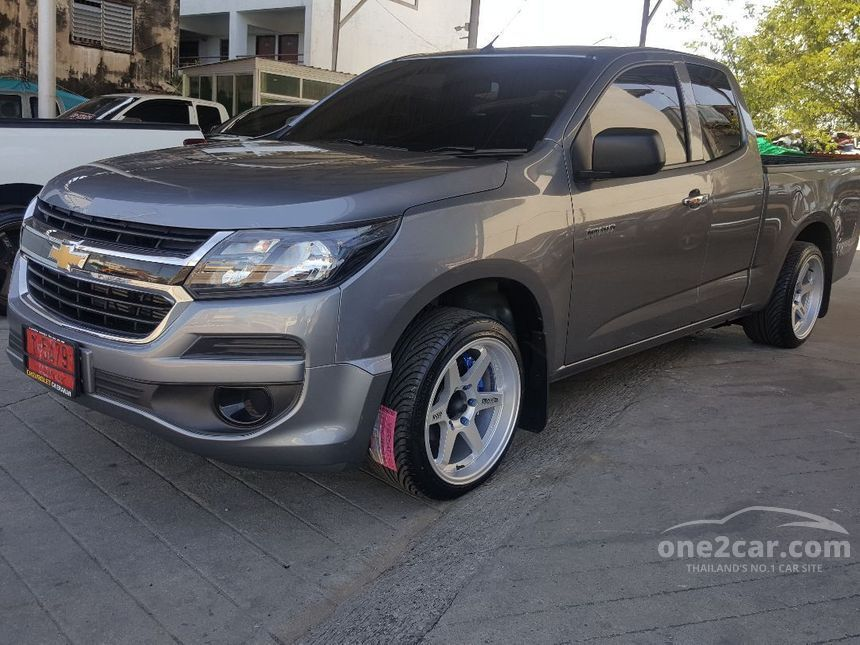pickup: (9, 45, 860, 501)
